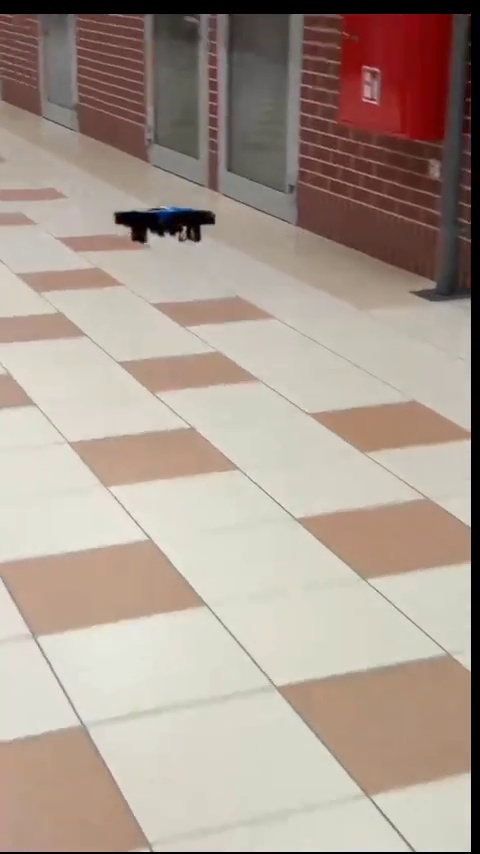drone: (116, 202, 216, 243)
